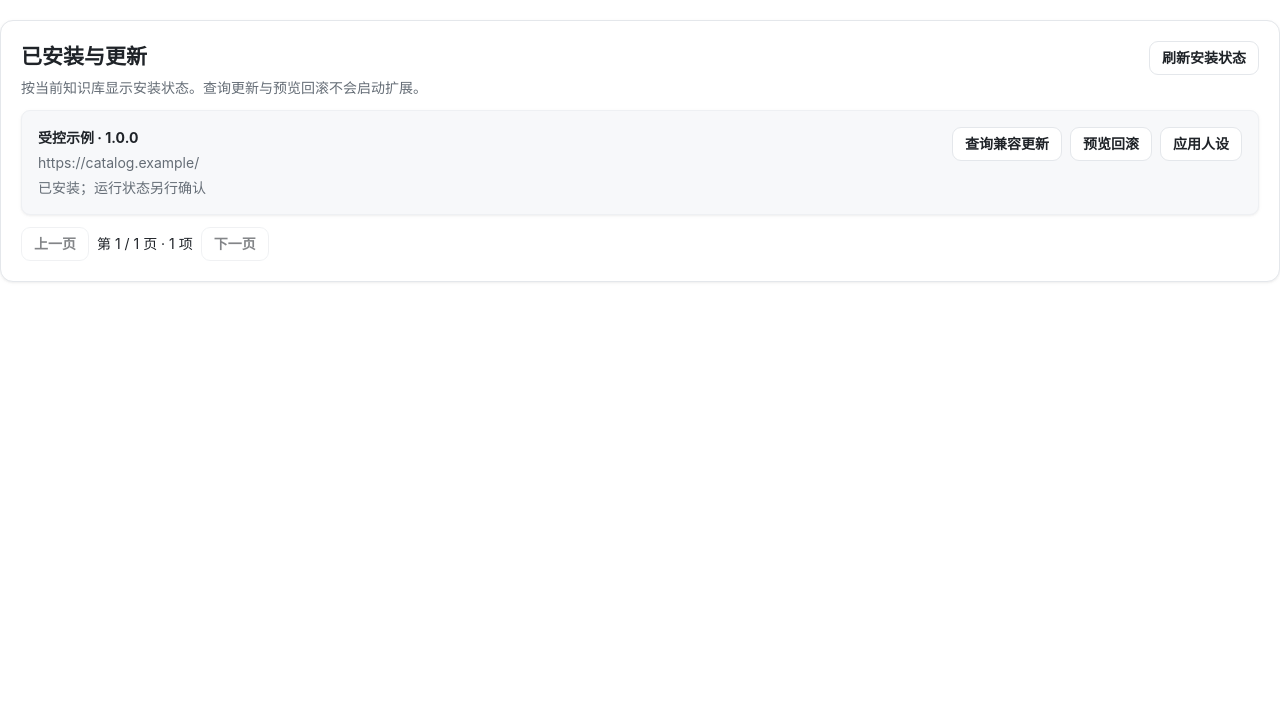
Test: opens the persona application target from installed packages without implicitly previewing or writing
Click the button "应用人设": {"x": 1201, "y": 144} [1160, 126, 1242, 160]
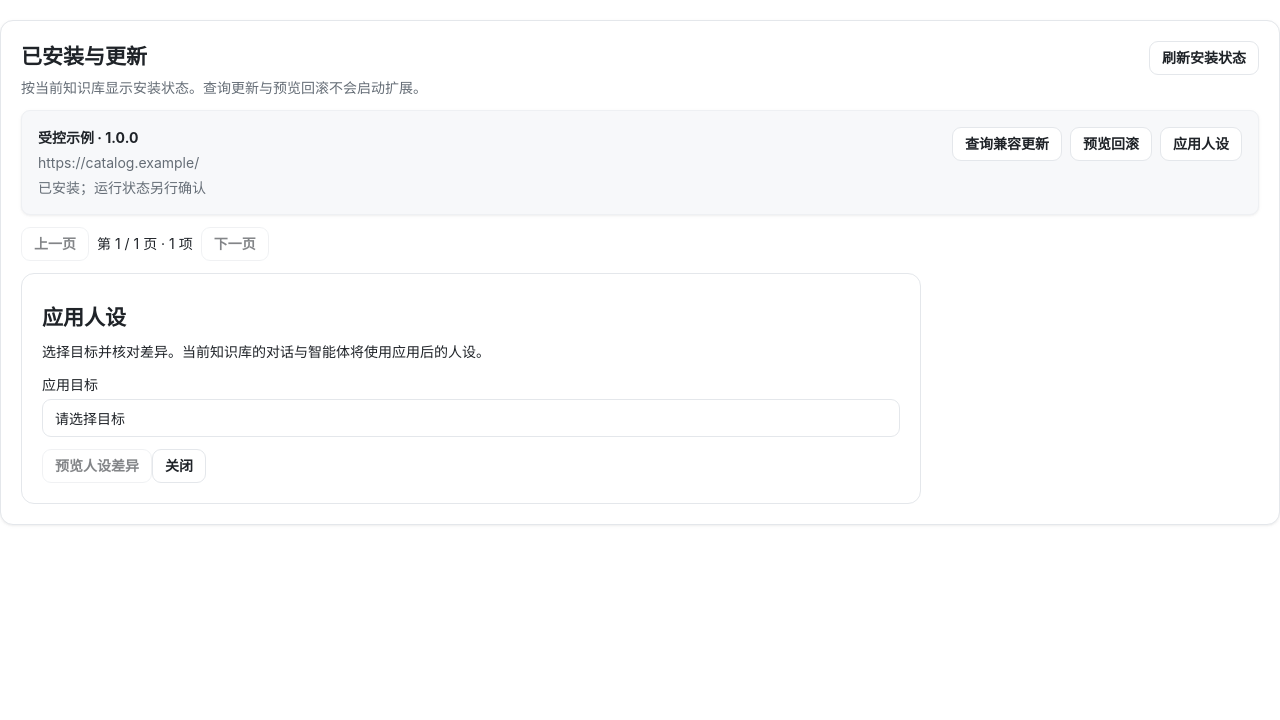
Now the dropdown labelled "应用目标" is shown, box [42, 399, 900, 437]
